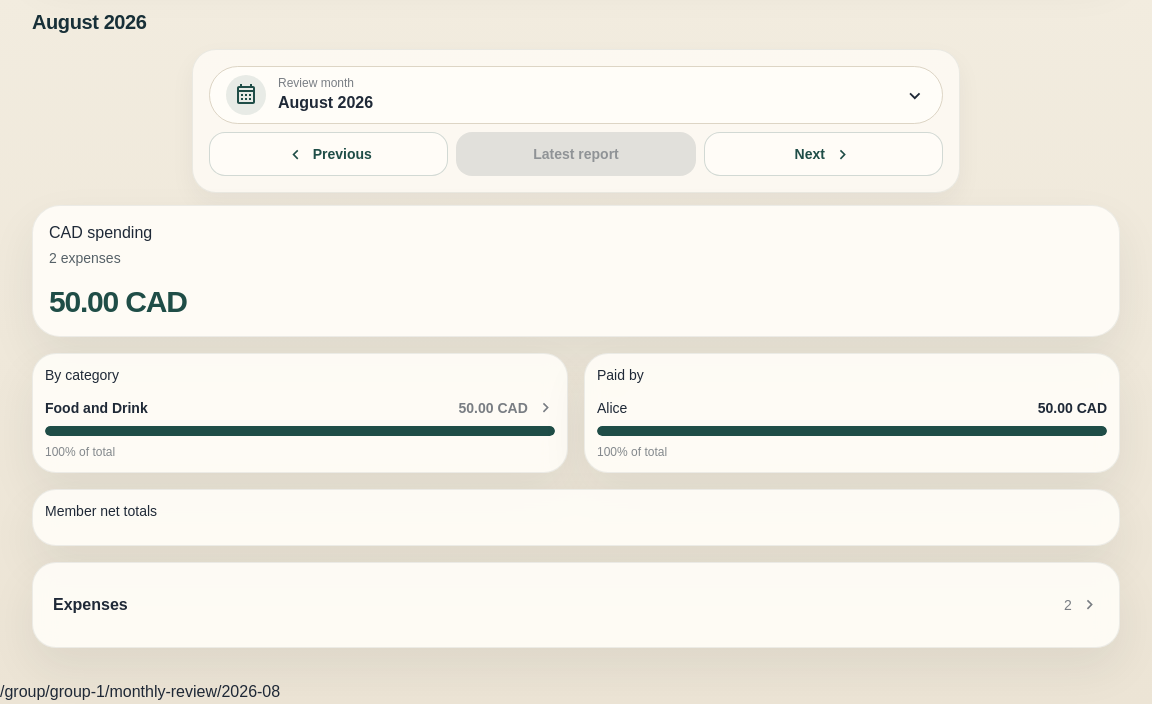
Scenario: MonthlyReview › loads expense details only when expanded and paginates on demand
This screenshot has width=1152, height=704.
(page scrolled)
Click the text "Expenses". click: (90,605)
box: [53,593,128,617]
(page scrolled)
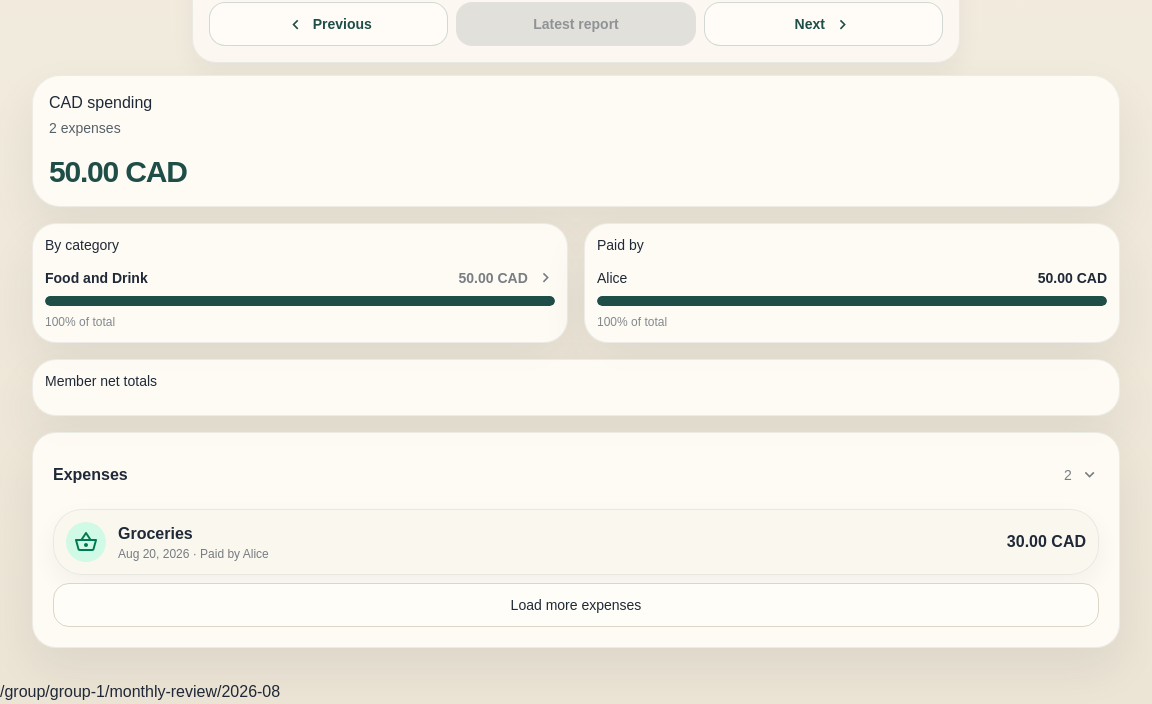
Click the button "Load more expenses". click: (576,605)
box: [53,583,1099,627]
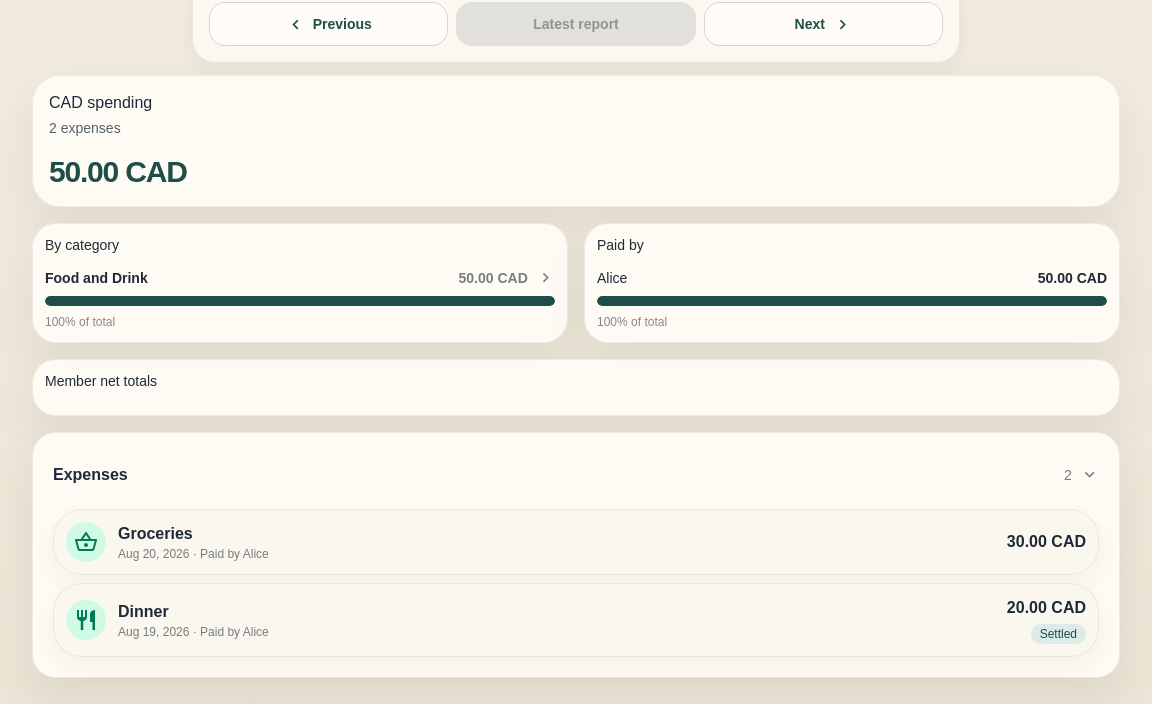
Expected: the button "Load more expenses" is gone
